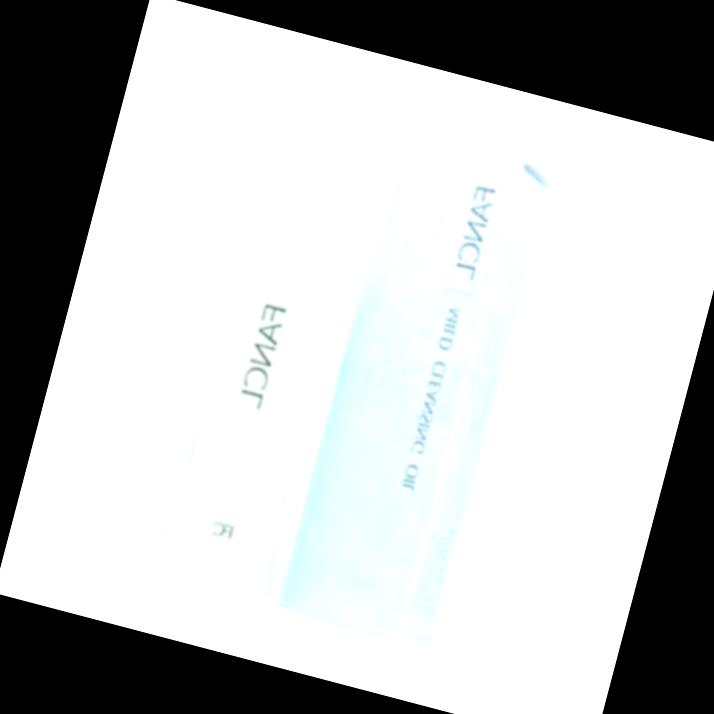cosmetic: (138, 114, 389, 597)
